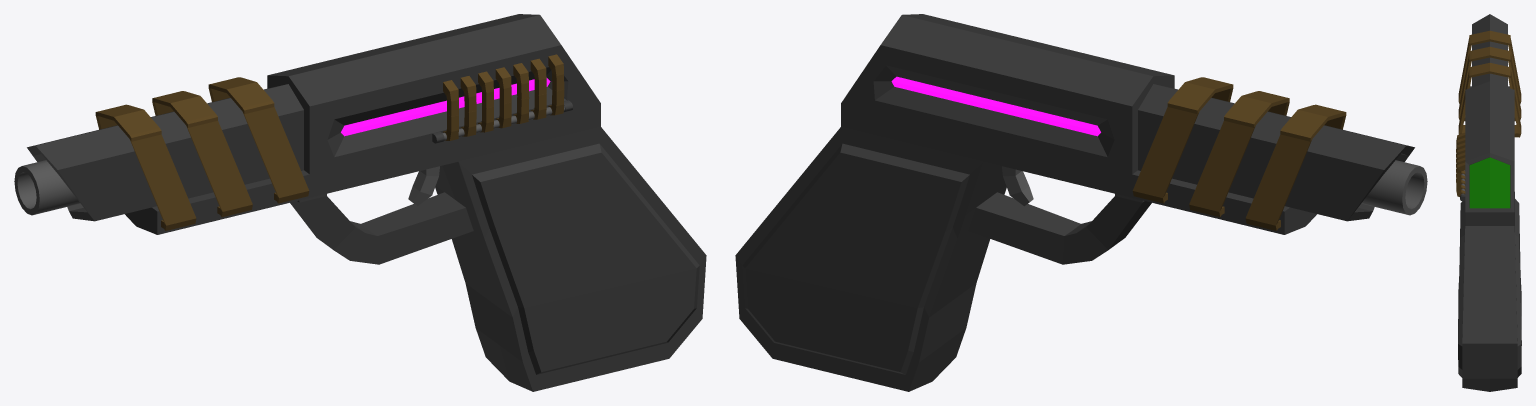
Rendered from Pistol-1.fbx.
3 views of the same model, side by side, from view 1: azimuth 30°, elevation 25°; view 2: azimuth 150°, elevation 25°; view 3: azimuth 270°, elevation 25° (orthographic). The views are drawn at different scales.
Visible parts, largest first — view 1: Cube.003, Cube.005, Cube.004, Cylinder.002, Cube.009; view 2: Cube.003, Cube.005, Cylinder.002, Cube.009; view 3: Cube.003, Cube.005, Cube.004.
Part boxes in pixels (left/top/right/bottom): Cube.003: left=27, top=14, right=706, bottom=391; Cube.005: left=95, top=77, right=309, bottom=230; Cube.004: left=443, top=54, right=564, bottom=140; Cylinder.002: left=14, top=160, right=80, bottom=215; Cube.009: left=408, top=166, right=439, bottom=206; Cube.003: left=735, top=14, right=1414, bottom=391; Cube.005: left=1132, top=77, right=1346, bottom=230; Cylinder.002: left=1361, top=160, right=1427, bottom=215; Cube.009: left=1002, top=166, right=1033, bottom=206; Cube.003: left=1458, top=14, right=1521, bottom=391; Cube.005: left=1458, top=30, right=1521, bottom=137; Cube.004: left=1456, top=132, right=1465, bottom=196.
Bounding box in the file's own units: 94.45 × 49.7 × 14.08.
